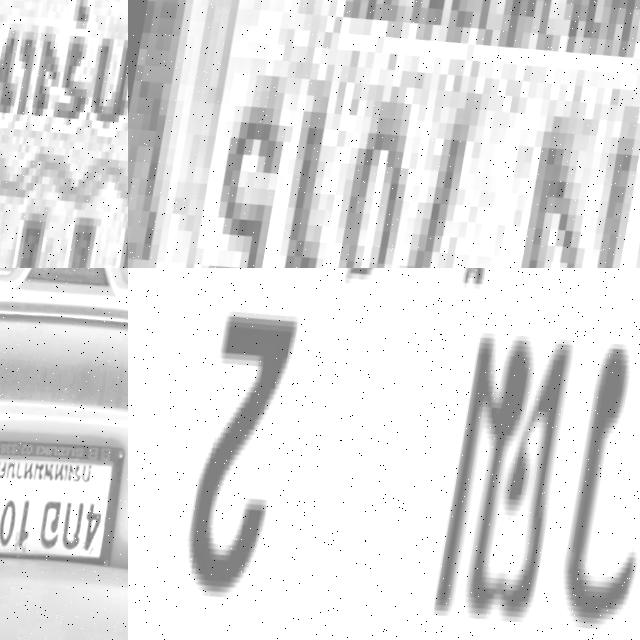license-plate: (128, 268, 640, 640), (128, 0, 640, 268), (0, 0, 128, 268), (0, 429, 128, 591)
